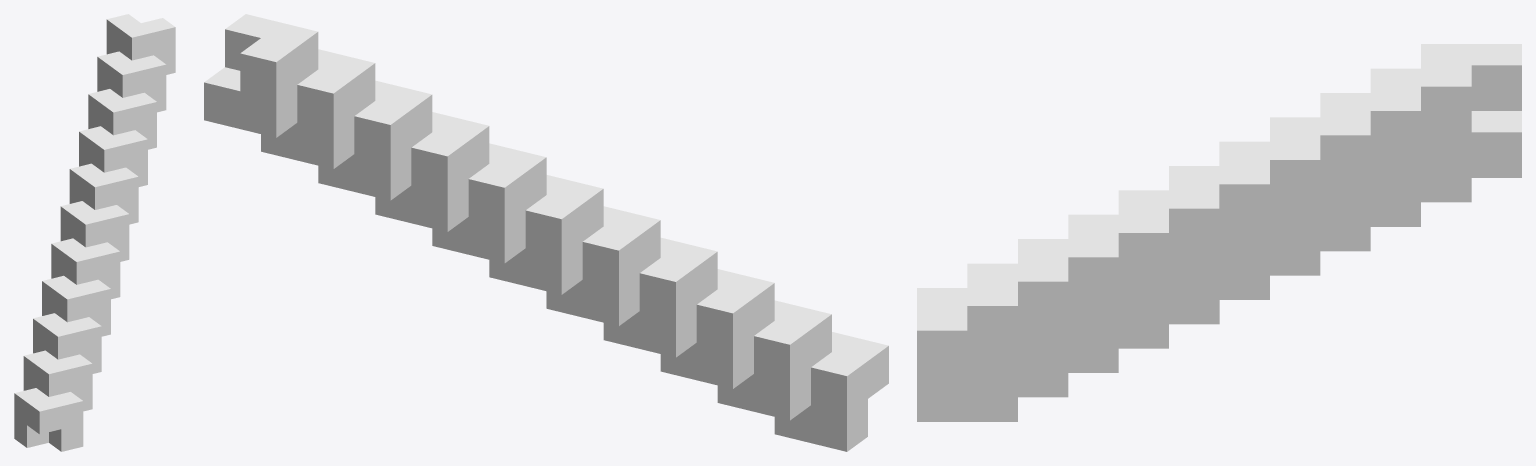
The model's file is connector_3d.obj.
3 renders of one model, left to right at view 1: azimuth 30°, elevation 25°; view 2: azimuth 150°, elevation 25°; view 3: azimuth 270°, elevation 25°, orthographic. The views are drawn at different scales.
Size of the model in its own units: 2.4 by 2.4 by 2.4.
1 material, 1 textured.
